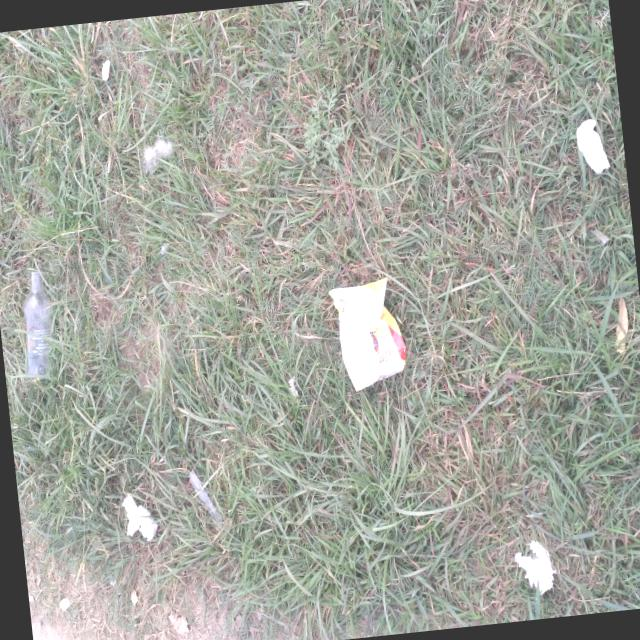Paper: (504, 533, 564, 612), (112, 484, 168, 562), (569, 110, 614, 182)
Plastic: (316, 268, 420, 403), (6, 251, 74, 396), (182, 459, 230, 542)
